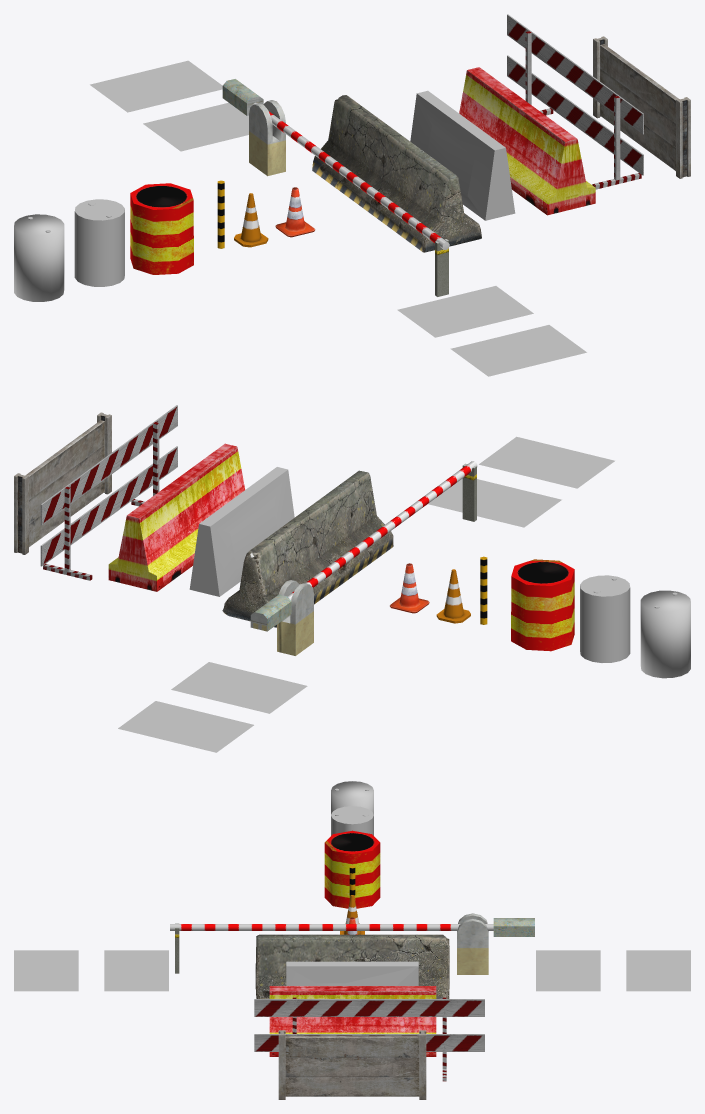
Rendered from Hurdles_Collcetion.fbx.
3 renders of one model, top to bottom at view 1: azimuth 30°, elevation 25°; view 2: azimuth 150°, elevation 25°; view 3: azimuth 270°, elevation 25°, orthographic. The views are drawn at different scales.
Parts seen in each view (by area): view 1: Road_Barrier_01, Road_Barrier_03, Road_barrier_02, Road_Barrier_04, pasted__Wall_Block_093, Drum, Barrel_01, Barrel_02, Arrow3, Arrow, Arrow2, Arrow1 (+6 smaller); view 2: Road_Barrier_01, Road_Barrier_03, Road_barrier_02, Road_Barrier_04, pasted__Wall_Block_093, Drum, Barrel_02, Barrel_01, Arrow2, Arrow1, Arrow3, Arrow (+7 smaller); view 3: pasted__Wall_Block_093, Road_Barrier_01, Road_Barrier_04, Road_Barrier_03, Drum, Road_barrier_02, Arrow, Arrow1, Arrow2, Arrow3, Pole_barrier, Check_post_Stone (+3 smaller).
Part boxes in pixels (box(x1,y1,x2,y2)): Road_Barrier_01: box(312, 95, 481, 252); Road_Barrier_03: box(459, 67, 595, 215); Road_barrier_02: box(410, 90, 515, 220); Road_Barrier_04: box(507, 14, 643, 189); pasted__Wall_Block_093: box(593, 36, 690, 178); Drum: box(130, 183, 193, 274); Barrel_01: box(74, 199, 124, 286); Barrel_02: box(14, 214, 64, 301); Arrow3: box(450, 325, 586, 376); Arrow: box(397, 286, 533, 337); Arrow2: box(90, 60, 222, 112); Arrow1: box(143, 102, 248, 151); Road_Barrier_01: box(222, 470, 393, 627); Road_Barrier_03: box(108, 443, 245, 591); Road_barrier_02: box(189, 467, 294, 596); Road_Barrier_04: box(40, 405, 177, 580); pasted__Wall_Block_093: box(14, 412, 111, 554); Drum: box(511, 559, 574, 651); Barrel_02: box(640, 590, 690, 678); Barrel_01: box(580, 575, 630, 662); Arrow2: box(118, 701, 253, 752); Arrow1: box(171, 662, 307, 713); Arrow3: box(479, 436, 614, 488); Arrow: box(428, 478, 561, 527); pasted__Wall_Block_093: box(278, 1030, 426, 1099); Road_Barrier_01: box(255, 934, 449, 998); Road_Barrier_04: box(254, 997, 484, 1081); Road_Barrier_03: box(269, 986, 436, 1056); Drum: box(324, 830, 380, 908); Road_barrier_02: box(286, 961, 418, 985); Arrow: box(104, 950, 168, 991); Arrow1: box(536, 950, 600, 991); Arrow2: box(626, 950, 690, 991); Arrow3: box(14, 950, 78, 991); Pole_barrier: box(170, 924, 493, 930); Check_post_Stone: box(457, 913, 488, 974).
Bounding box in the file's own units: 40.34 × 5.39 × 44.23.
